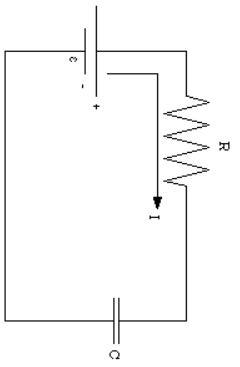Capacitor: (88, 280, 142, 342)
